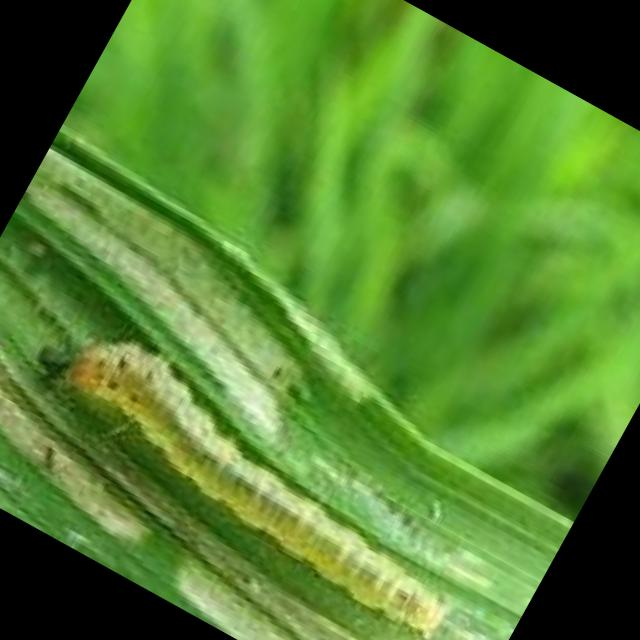leaf-folder: (0, 280, 510, 640)
